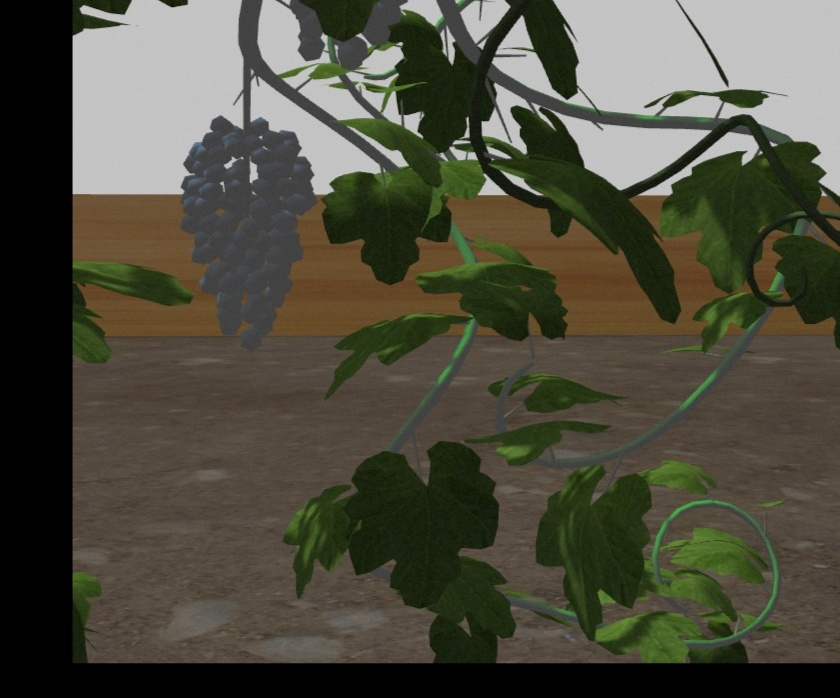grape: (176, 115, 317, 351)
